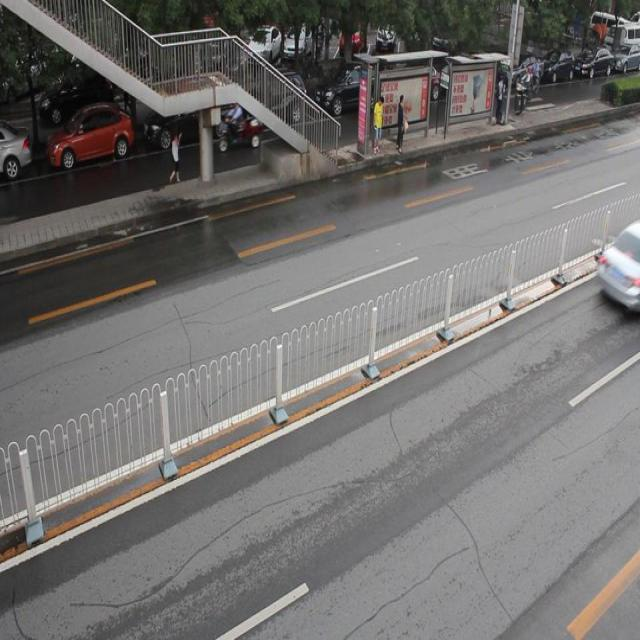car: (49, 105, 136, 172), (143, 92, 236, 144), (315, 62, 391, 118), (241, 72, 310, 133), (595, 224, 640, 311), (1, 125, 36, 182)
